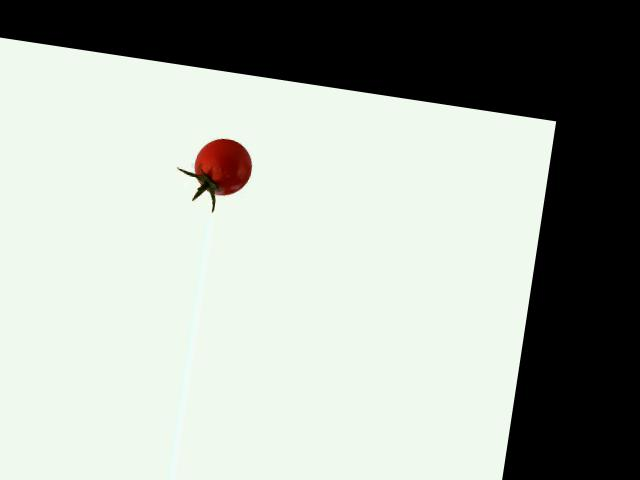tomato: (192, 134, 256, 198)
